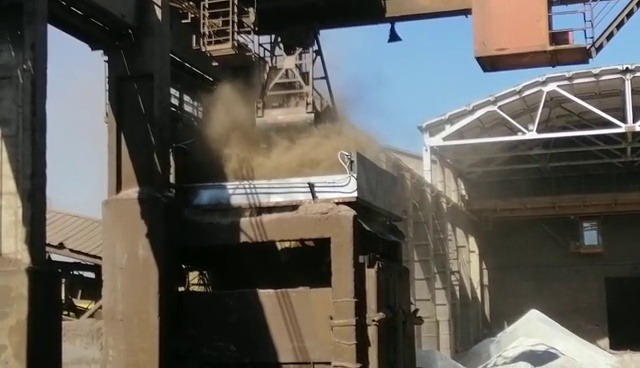dust: (204, 90, 364, 173)
grab: (256, 20, 342, 132)
